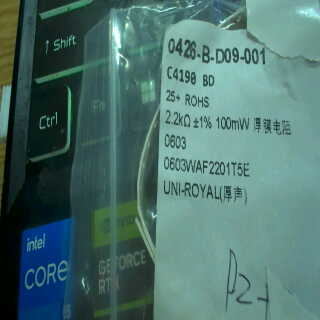2.2kR: (163, 107, 190, 129)
